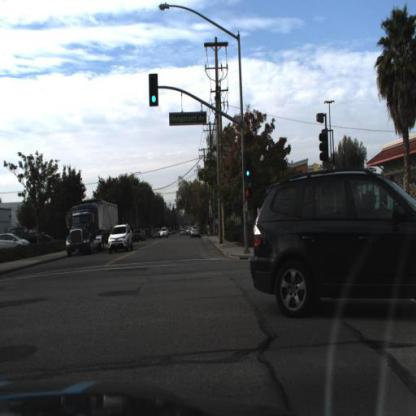car: (252, 168, 416, 323), (106, 221, 135, 256), (1, 226, 29, 254), (111, 223, 136, 254), (1, 234, 34, 254), (191, 224, 203, 238), (159, 226, 170, 240)
trafficLight-Green: (150, 72, 161, 108), (244, 154, 255, 188)
truck: (63, 193, 123, 257), (65, 197, 119, 257)
